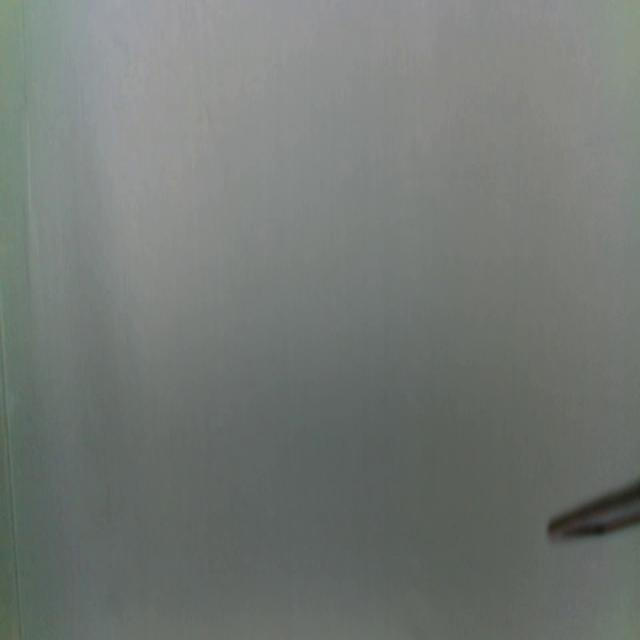crease: (0, 339, 23, 639), (21, 2, 35, 216)
